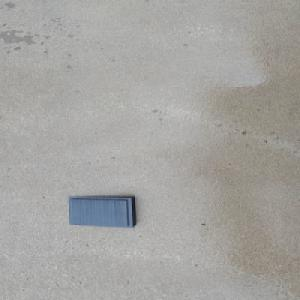PlasticPart: (66, 195, 137, 228)
